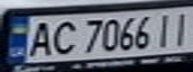0: (103, 16, 121, 52)
6: (133, 12, 157, 51), (118, 15, 139, 52)
7: (78, 16, 103, 54)
A: (24, 19, 57, 57)
C: (48, 18, 81, 56)
I: (151, 11, 178, 47), (169, 8, 193, 46)
